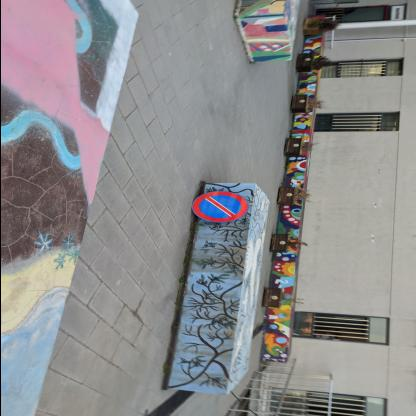No Waiting: (192, 192, 249, 224)
